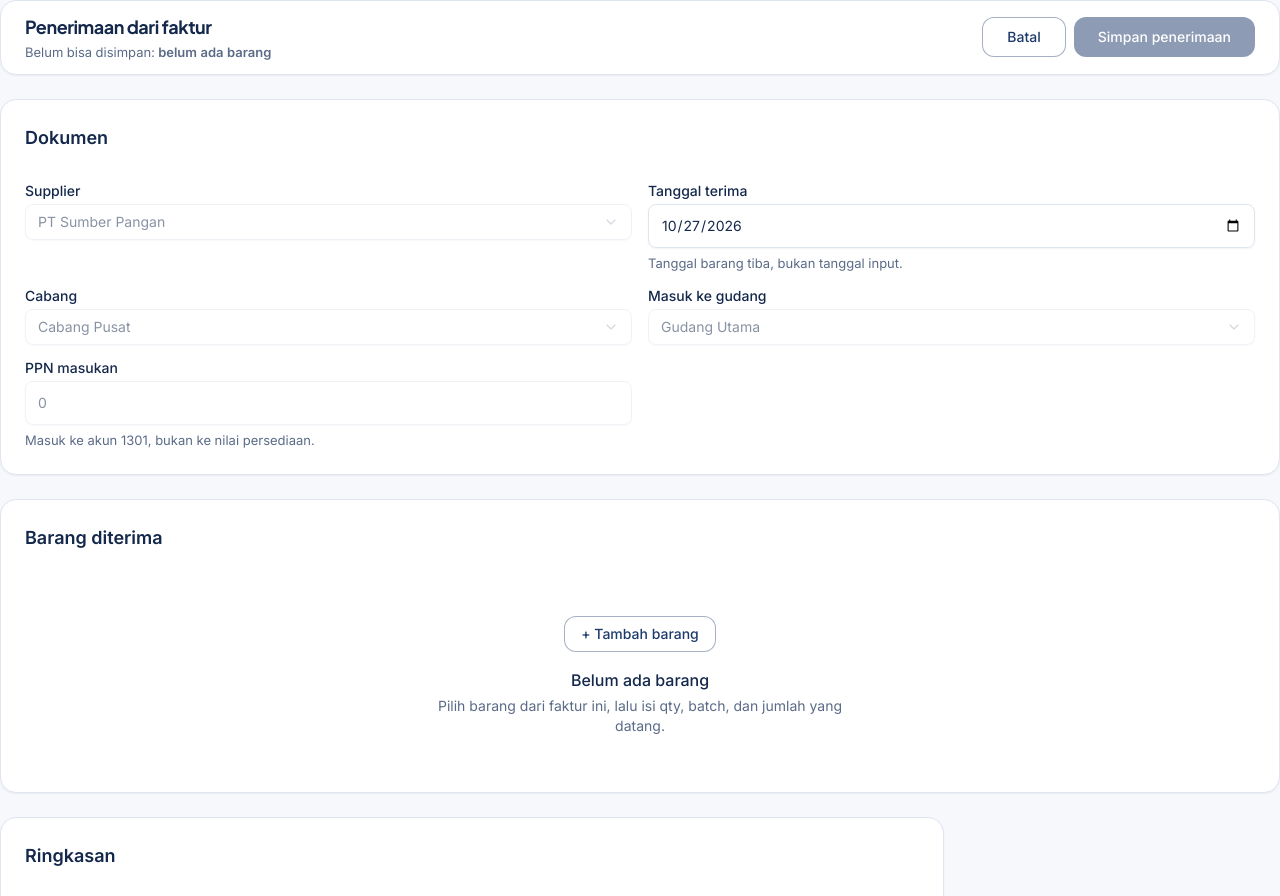
ReceiptForm — from a supplier invoice › picks an invoice line by clicking anywhere on its row
This screenshot has width=1280, height=896.
Step 1. Click the button "+ Tambah barang" → (640, 634), box x1=564 y1=616 x2=716 y2=652
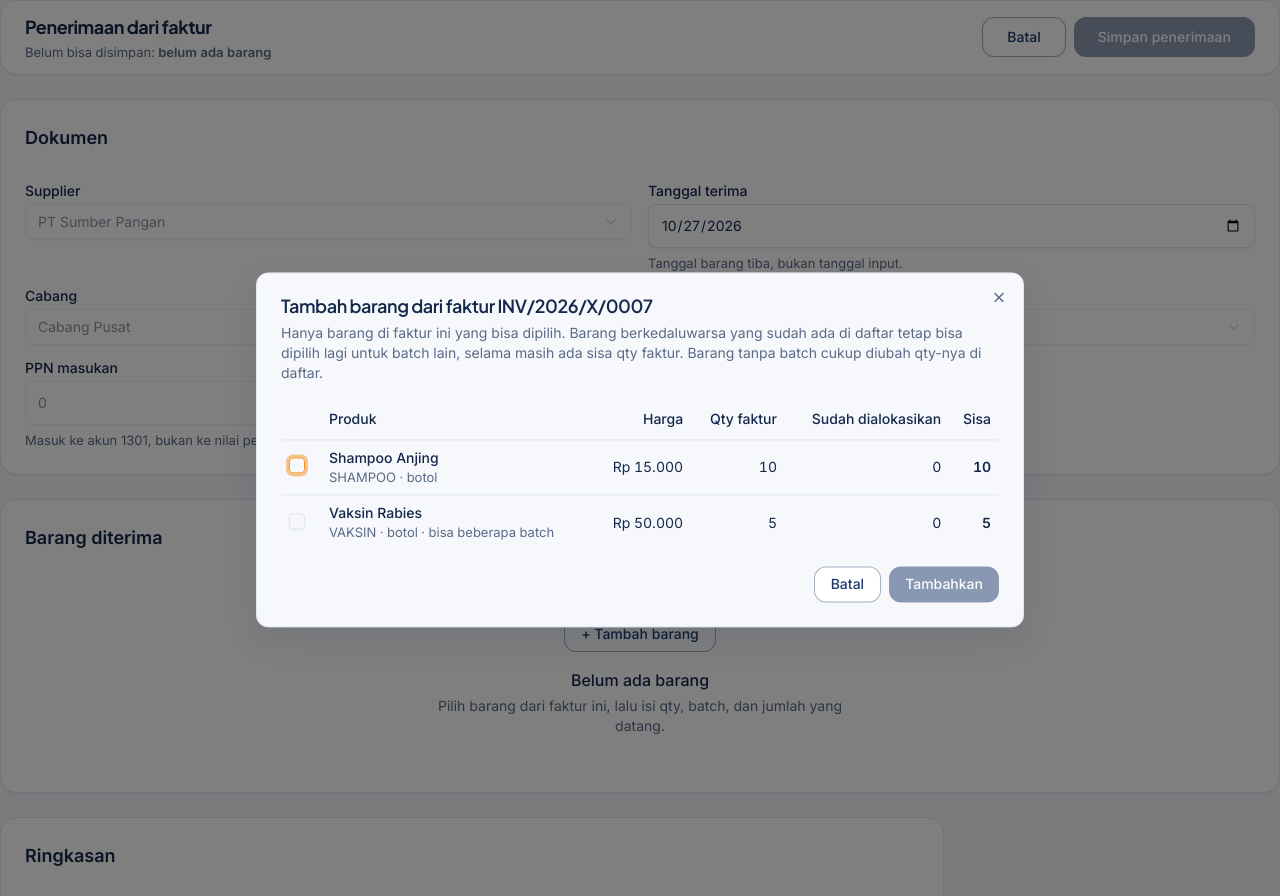
Step 2. Click the text "Vaksin Rabies" → (376, 513), box x1=329 y1=505 x2=422 y2=522
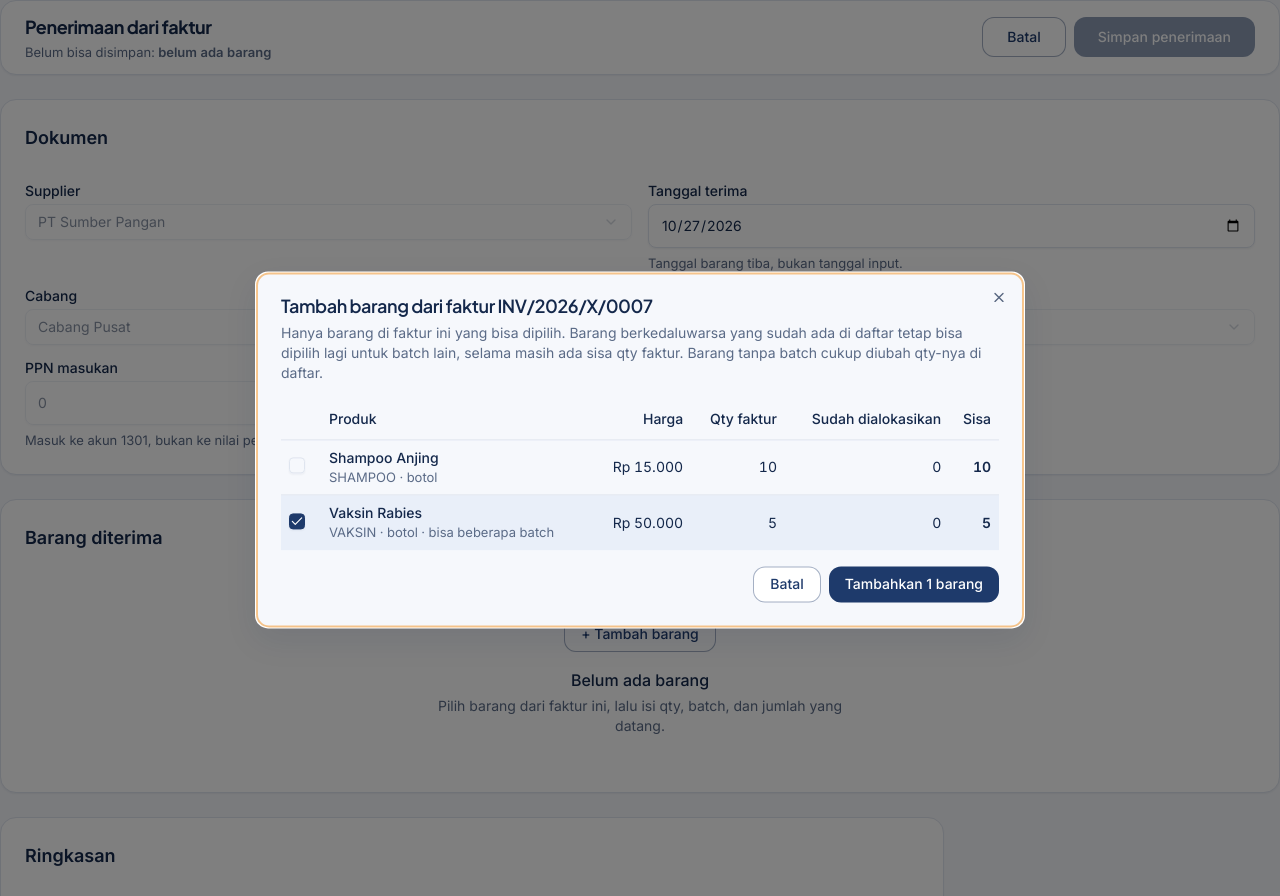
Expected: the checkbox named "Pilih Vaksin Rabies" is checked
Clicking the box itself still toggles once, not twice.
Step 3. Click the checkbox named "Pilih Vaksin Rabies" → (297, 521), box x1=289 y1=513 x2=305 y2=529
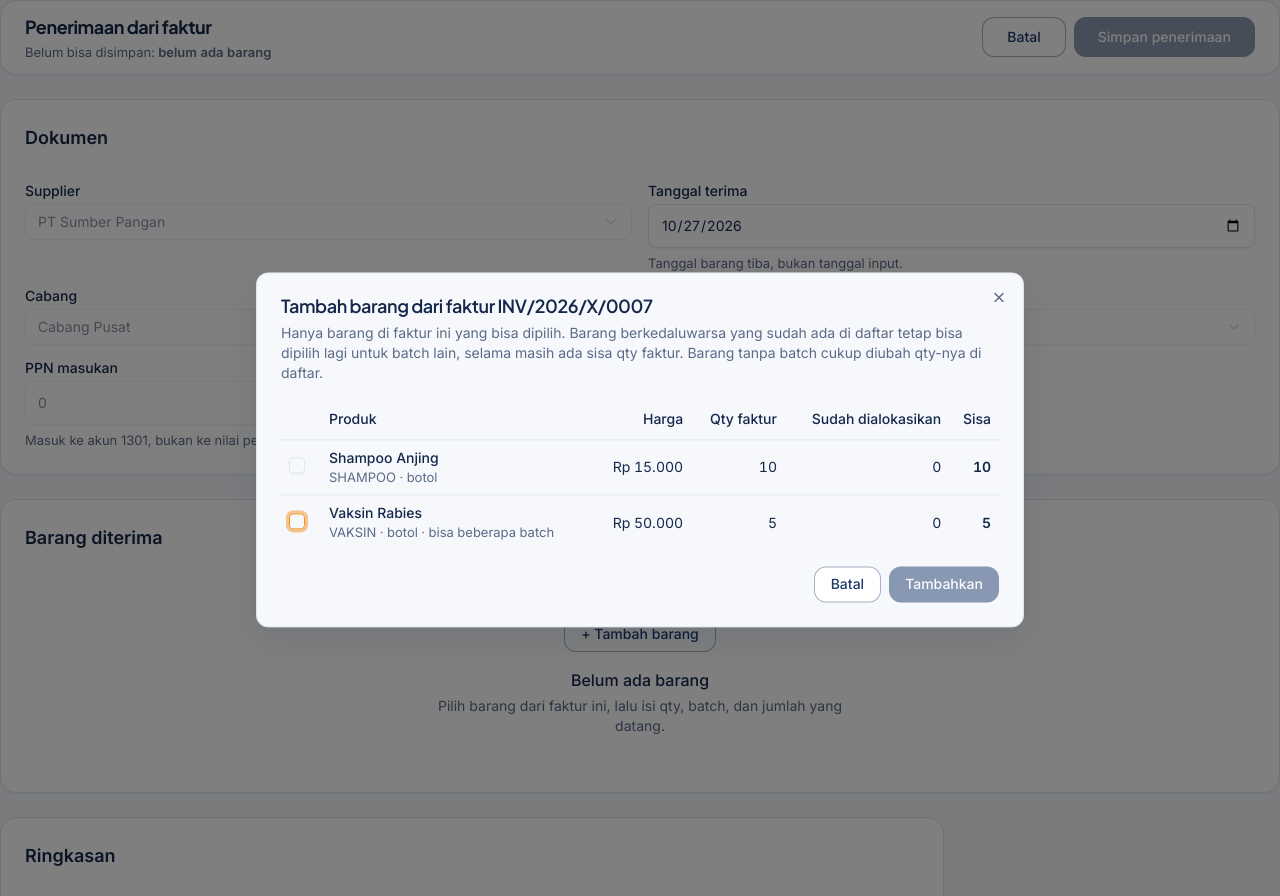
Expected: the checkbox named "Pilih Vaksin Rabies" is not checked, x1=289 y1=513 x2=305 y2=529
Step 4. Click the text "Rp 50.000" → (642, 523), box x1=593 y1=495 x2=691 y2=551
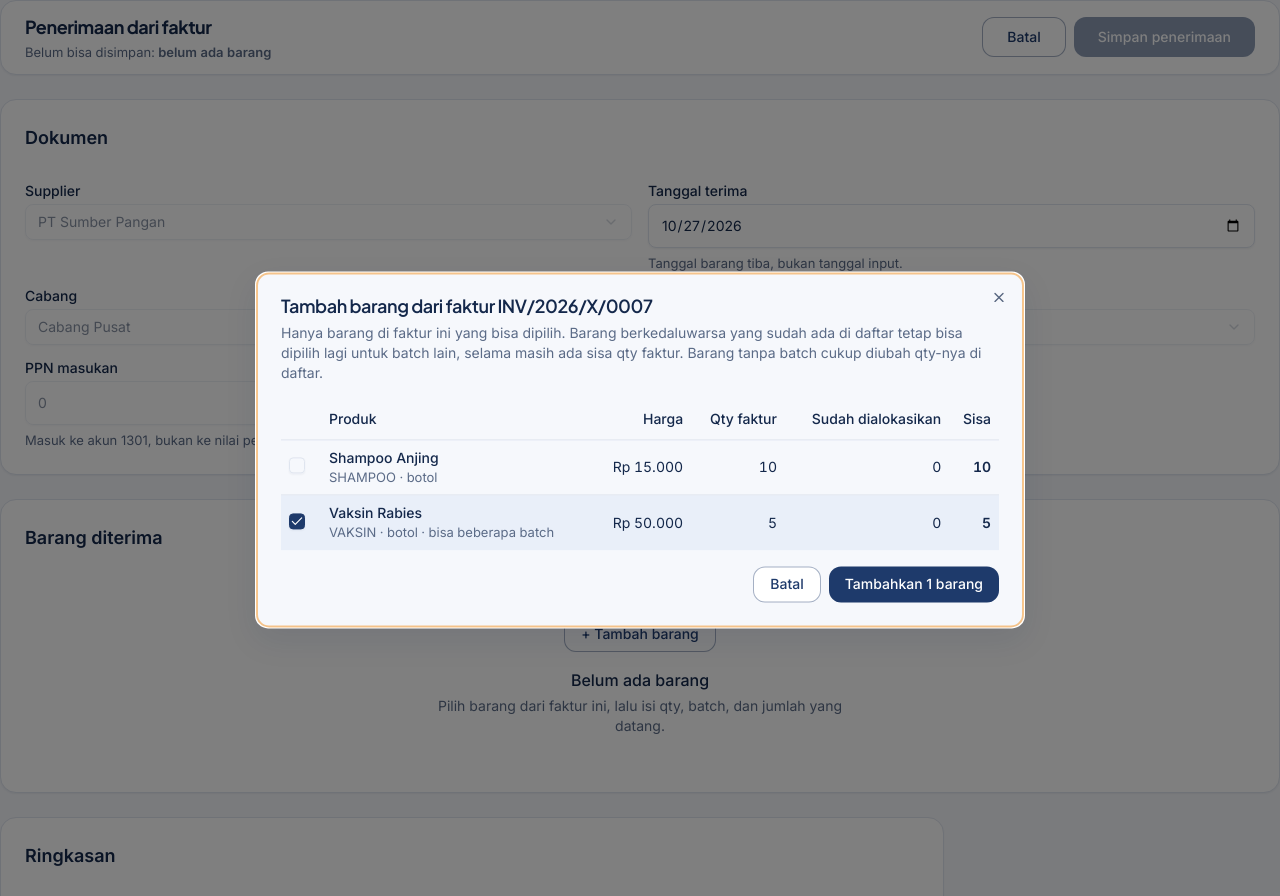
Expected: the checkbox named "Pilih Vaksin Rabies" is checked, x1=289 y1=513 x2=305 y2=529
Step 5. Click the button "Tambahkan 1 barang" → (914, 585), box x1=829 y1=567 x2=999 y2=603
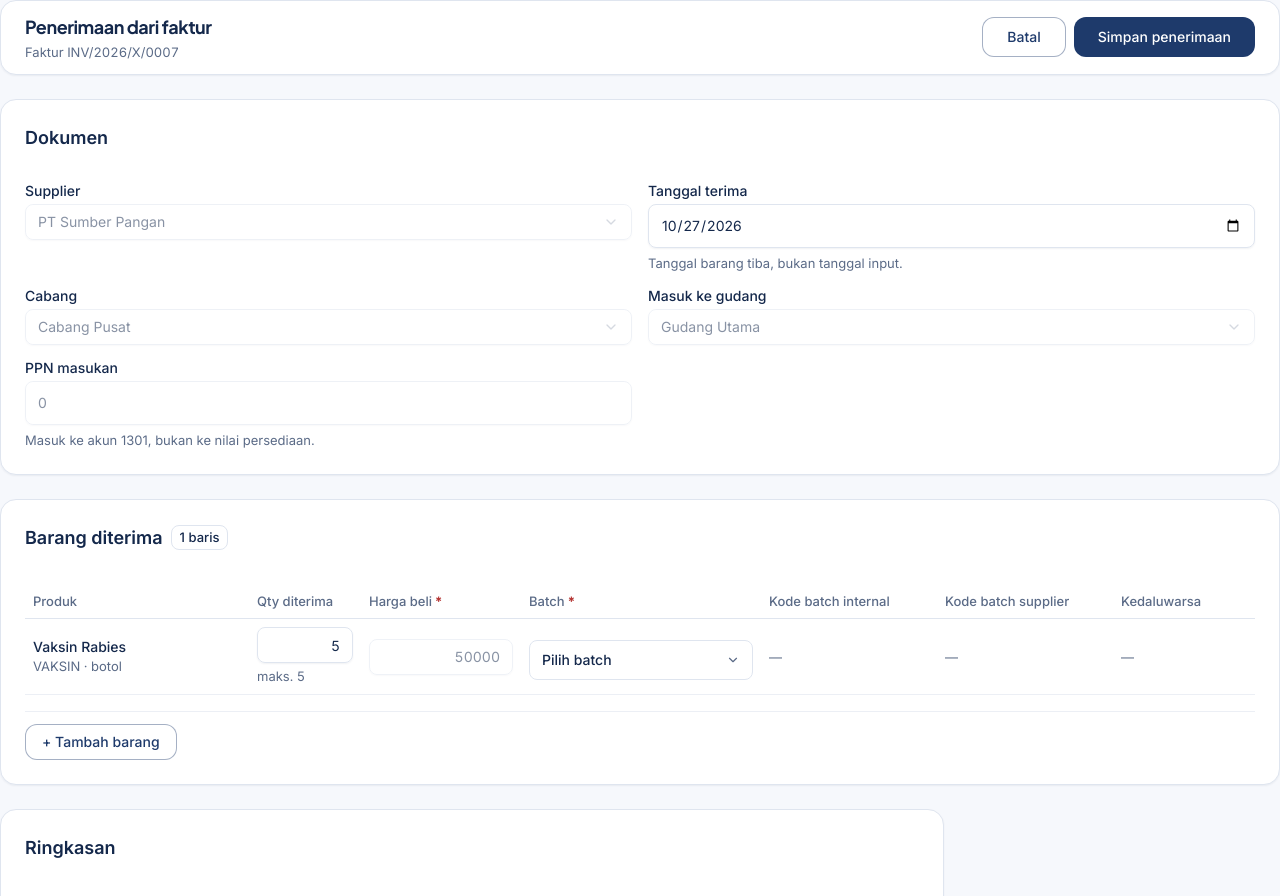
Expected: the field named "Qty Vaksin Rabies" holds "5", x1=257 y1=627 x2=353 y2=663
